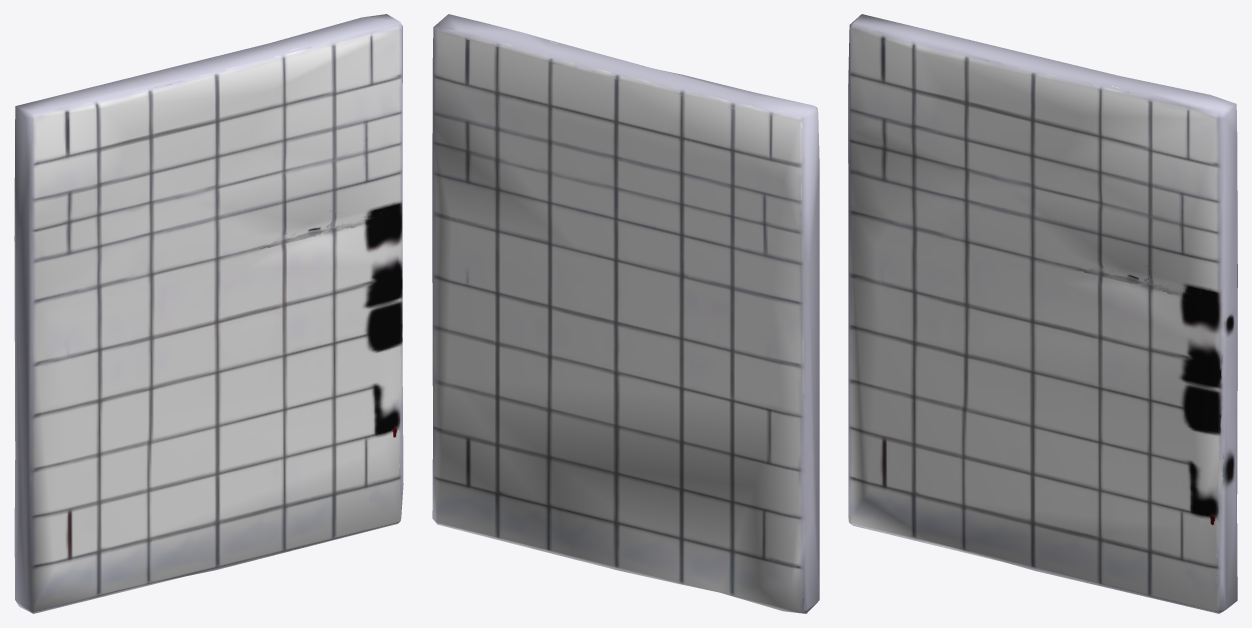
The model's file is subway-tile-wall.glb.
The picture shows the model from 3 angles, left to right: view 1: azimuth 30°, elevation 25°; view 2: azimuth 150°, elevation 25°; view 3: azimuth 330°, elevation 25°; orthographic projection.
Parts seen in each view (by area): view 1: geometry_0.001; view 2: geometry_0.001; view 3: geometry_0.001.
Part boxes in pixels (x1,y1,x2,y2): geometry_0.001: [14, 14, 403, 613]; geometry_0.001: [432, 14, 819, 613]; geometry_0.001: [848, 14, 1237, 613].
Size of the model in its own units: 0.7806 by 0.9991 by 0.0679.
1 material, 1 textured.
